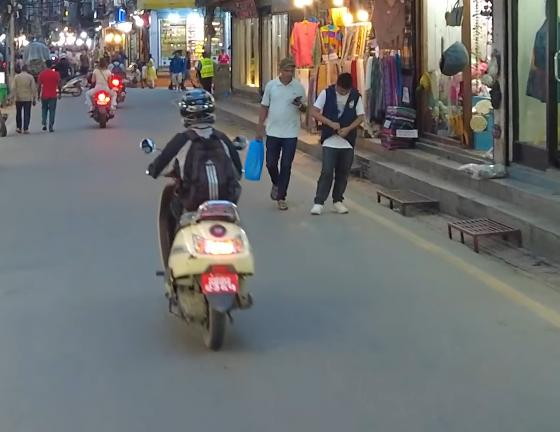scooter: (135, 134, 269, 353)
